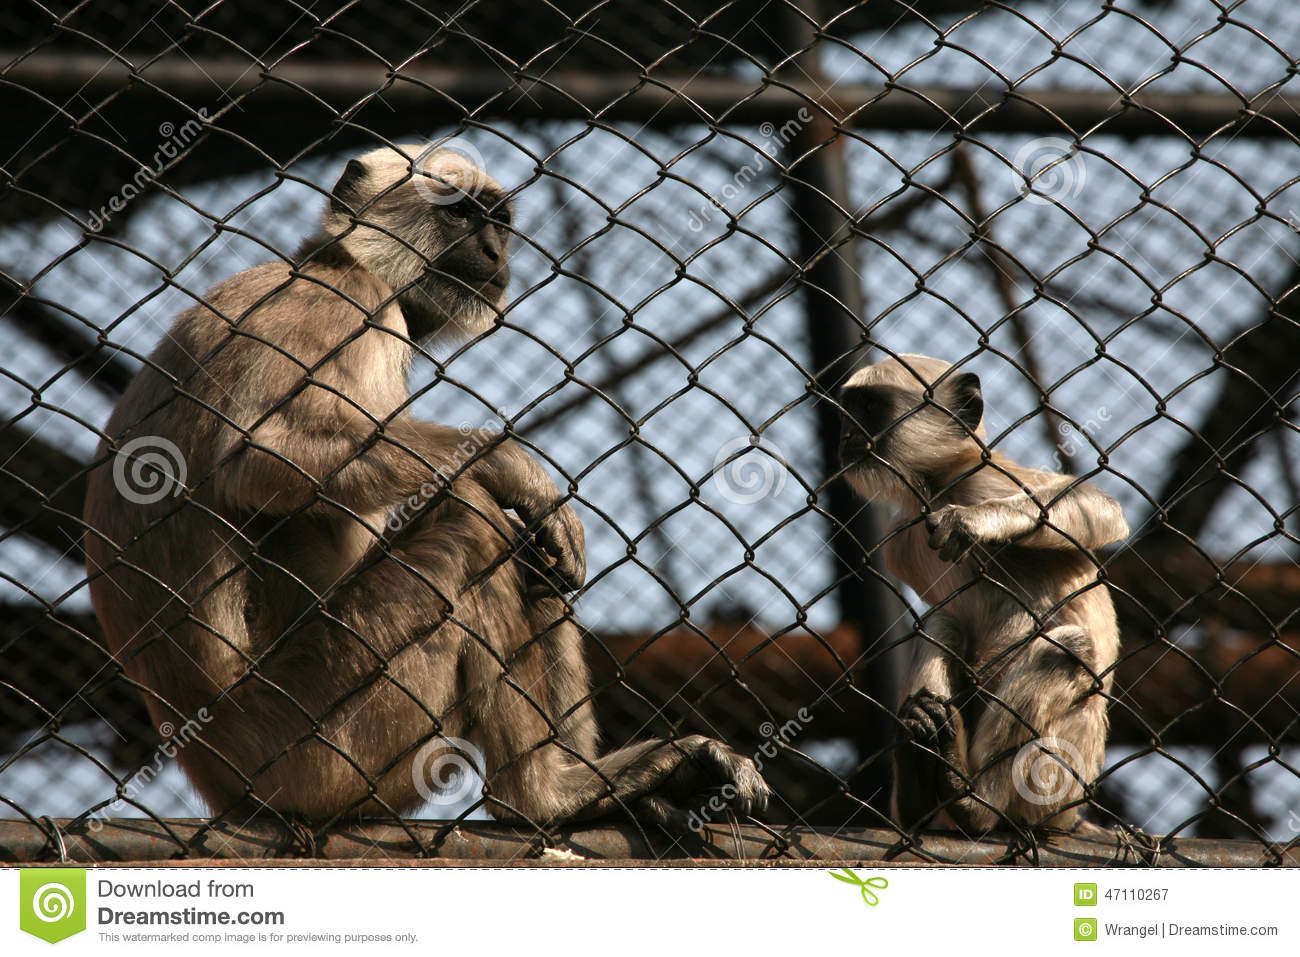monkey: (67, 138, 778, 826), (803, 331, 1156, 854)
